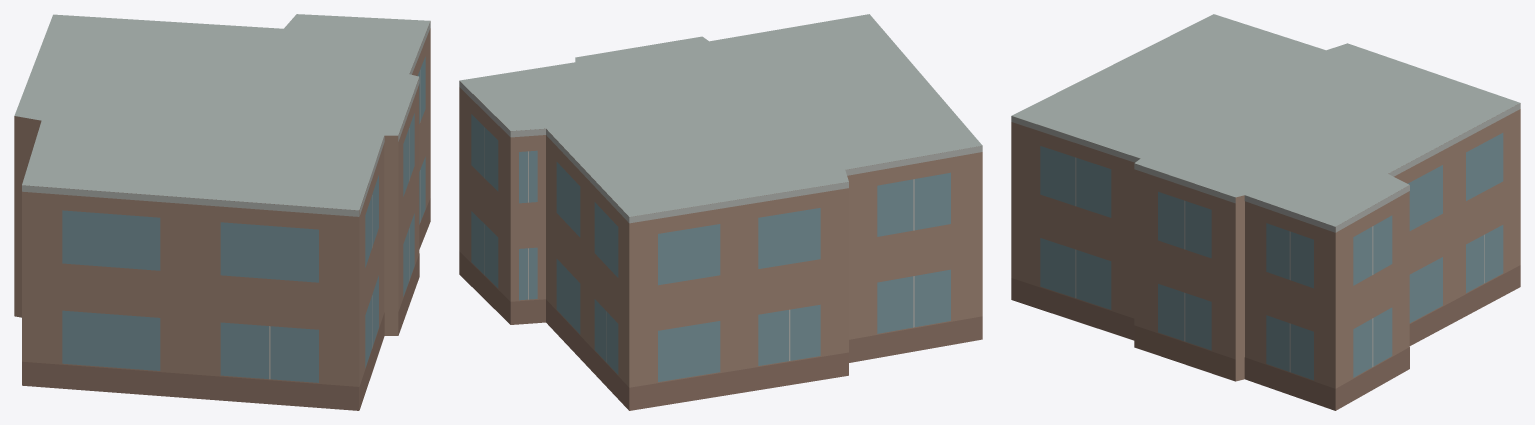
The model's file is survey-upis-32619256.glb.
3 views of the same model, side by side, from view 1: azimuth 30°, elevation 25°; view 2: azimuth 150°, elevation 25°; view 3: azimuth 270°, elevation 25° (orthographic). The views are drawn at different scales.
Visible parts, largest first — view 1: survey-upis-32619256.tmp; view 2: survey-upis-32619256.tmp; view 3: survey-upis-32619256.tmp.
Boxes of the visible parts, x1,y1,x2,y2 form: survey-upis-32619256.tmp: [14, 14, 430, 410]; survey-upis-32619256.tmp: [459, 14, 982, 410]; survey-upis-32619256.tmp: [1011, 14, 1520, 410].
Bounding box in the file's own units: 18.61 × 7.5 × 18.82.
